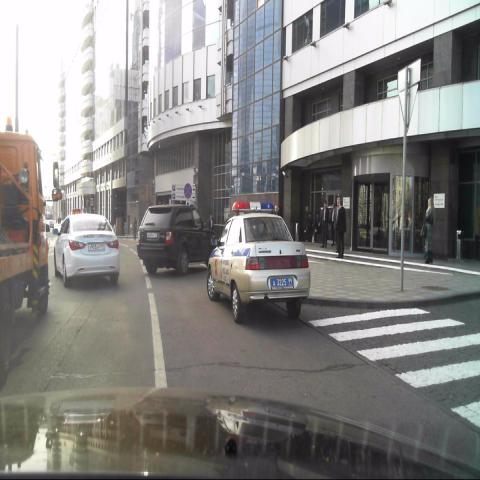3_27: (184, 182, 192, 198)
